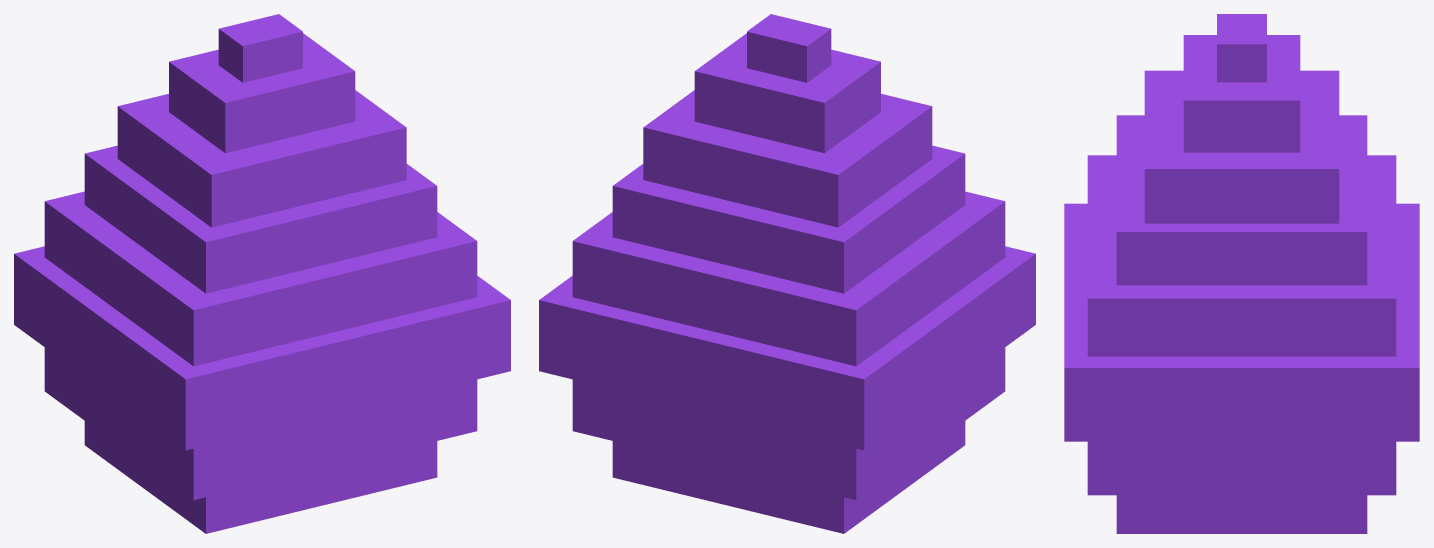
File: 보라색 물방울 1.fbx
3 renders of one model, left to right at view 1: azimuth 30°, elevation 25°; view 2: azimuth 150°, elevation 25°; view 3: azimuth 270°, elevation 25°, orthographic. The views are drawn at different scales.
Parts seen in each view (by area): view 1: Box003; view 2: Box003; view 3: Box003.
Boxes of the visible parts, left/top/right/bottom form: Box003: left=14, top=14, right=510, bottom=533; Box003: left=539, top=14, right=1035, bottom=533; Box003: left=1064, top=14, right=1419, bottom=533.
Bounding box in the file's own units: 40.25 × 51.02 × 36.83.
1 material, 1 textured.
